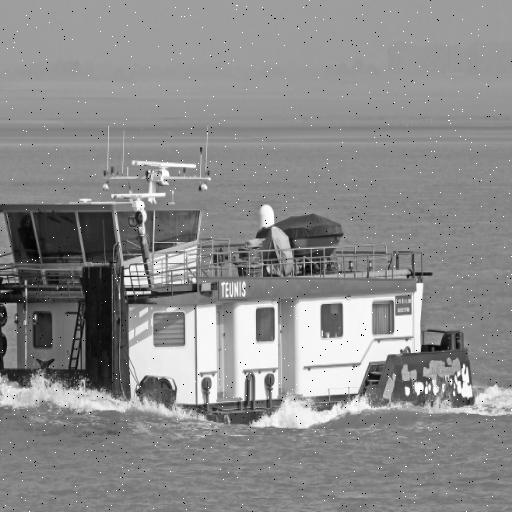tugboat: (1, 157, 480, 434)
